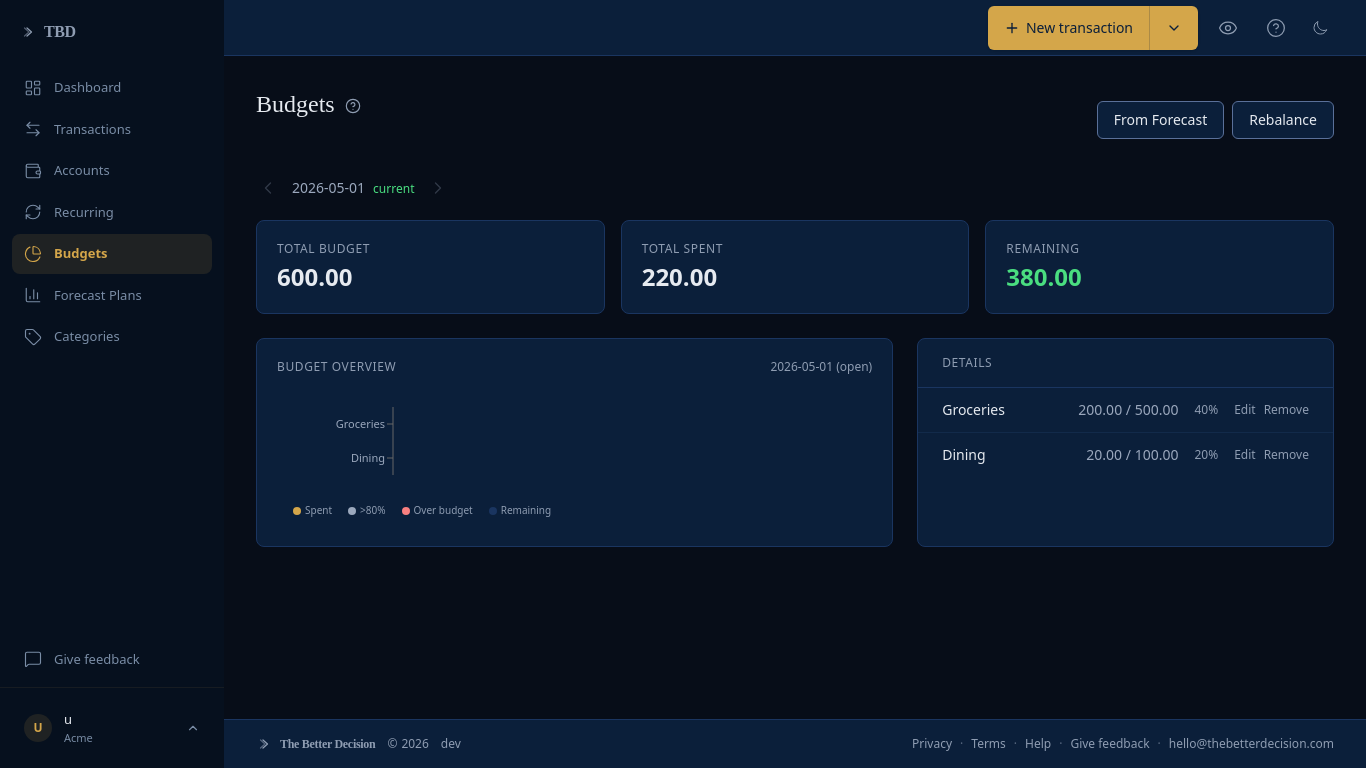
Test: Budgets page — Rebalance is no longer AI-gated (TBD-461) › V10b: current period, AI entitled but NOT configured — 'Use suggestions' is absent
What coordinates should you click on to do the following:
click the button with test id "rebalance-btn"
I would click on:
 (1283, 120)
Its box is left=1232, top=101, right=1334, bottom=139.
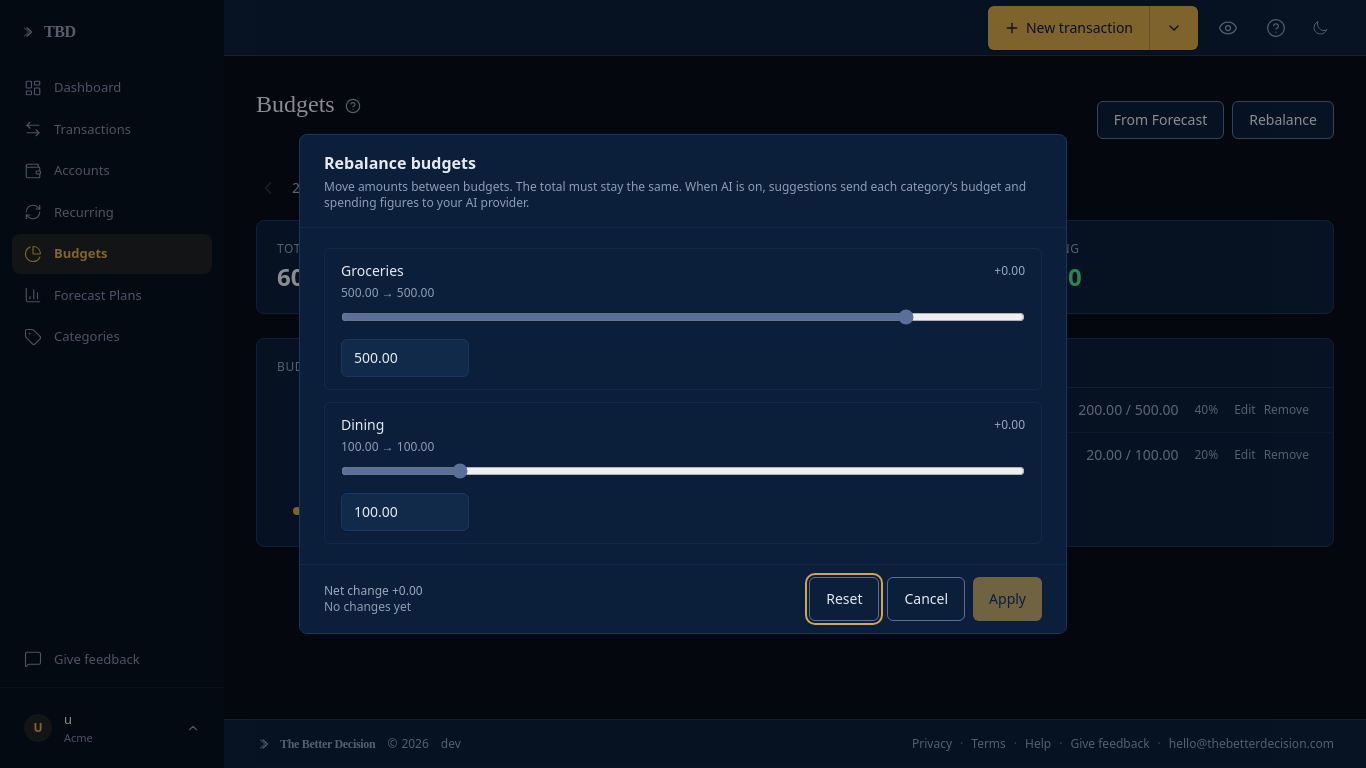
Expected: the dialog is shown
